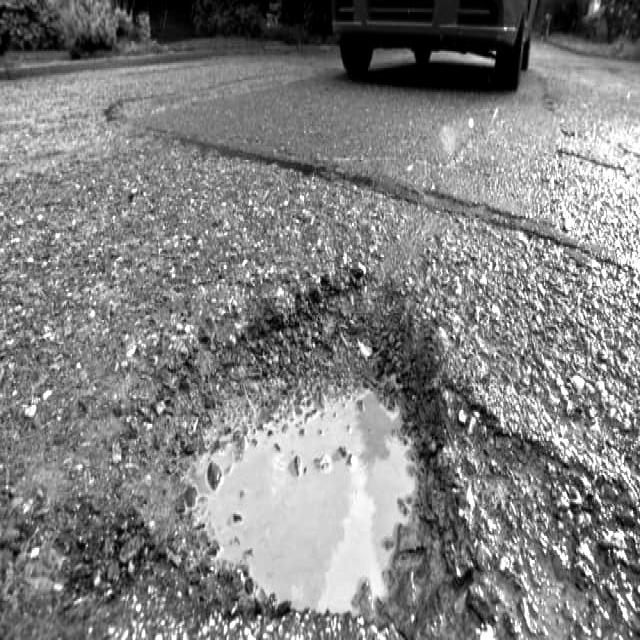pathole: (91, 204, 482, 640)
